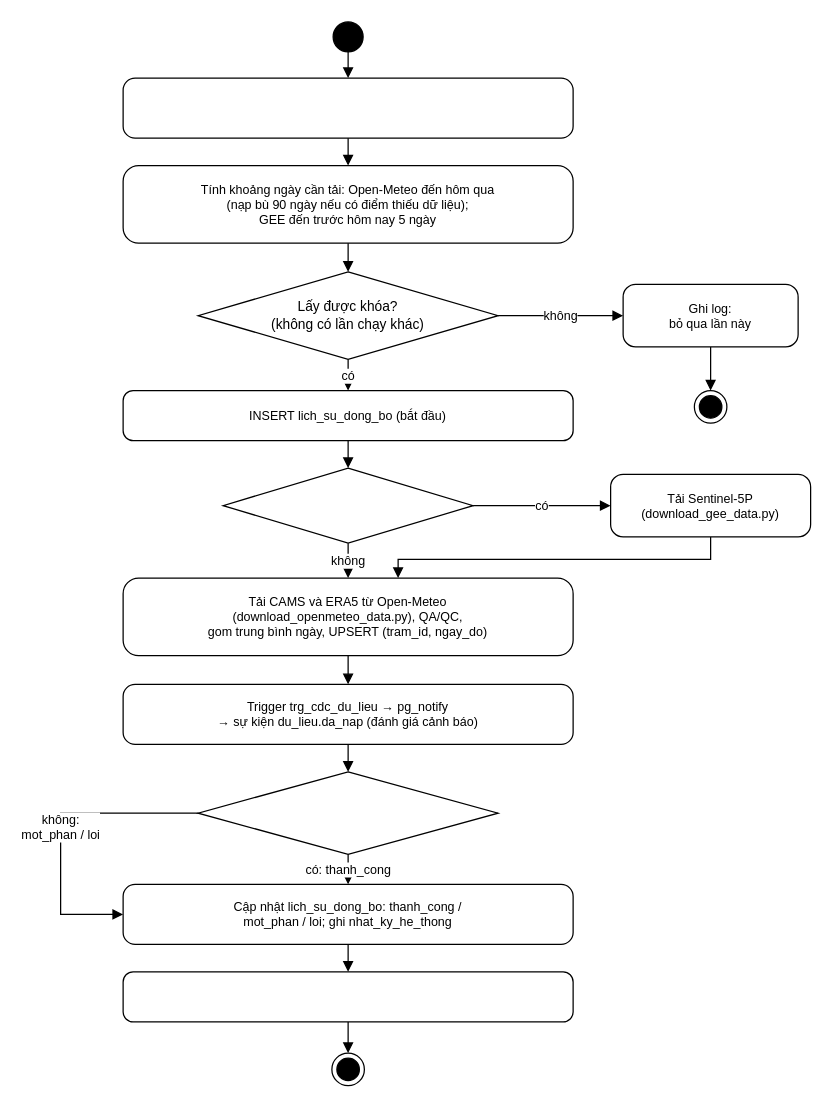
The diagram is 833 pixels wide and 1108 high, and some of its shapes have lost their labels. The shapes that lost their labels are listed below. From the top down, each one's centre as x and y in pixels, then its label:
point 347,107: Kích hoạt dong_bo_hang_ngay.py (Task Scheduler 07:30, luồng nền hoặc Admin)
point 347,505: Có ngày GEE mới?
point 347,812: Các bước đều thành công?
point 347,996: Trả khóa
